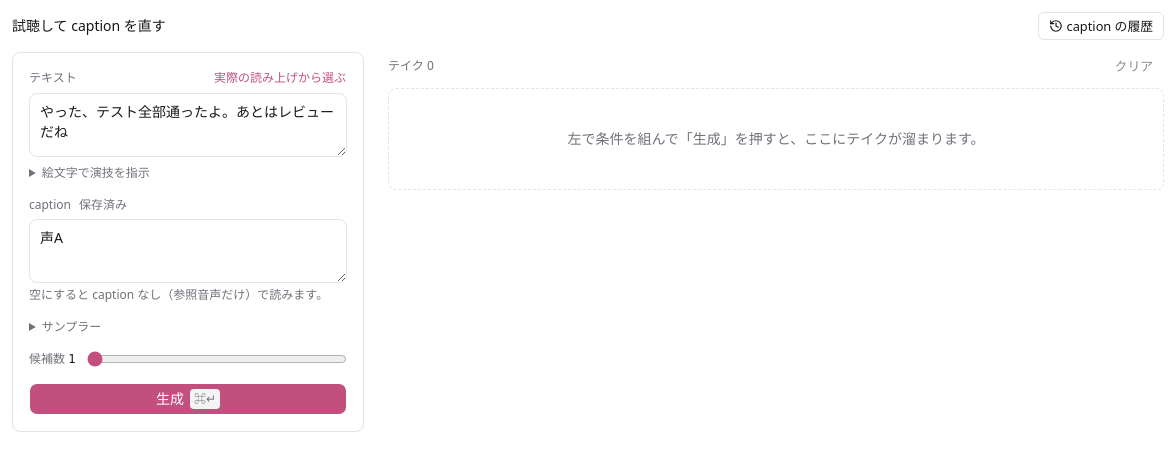
it: 入力欄の caption を、開いているプロファイルの声で試聴し、プロファイルは書かない
Step 1. Replace the text in the text box labelled "caption" with "声B" → {"x": 188, "y": 251}, box [29,219,347,283]
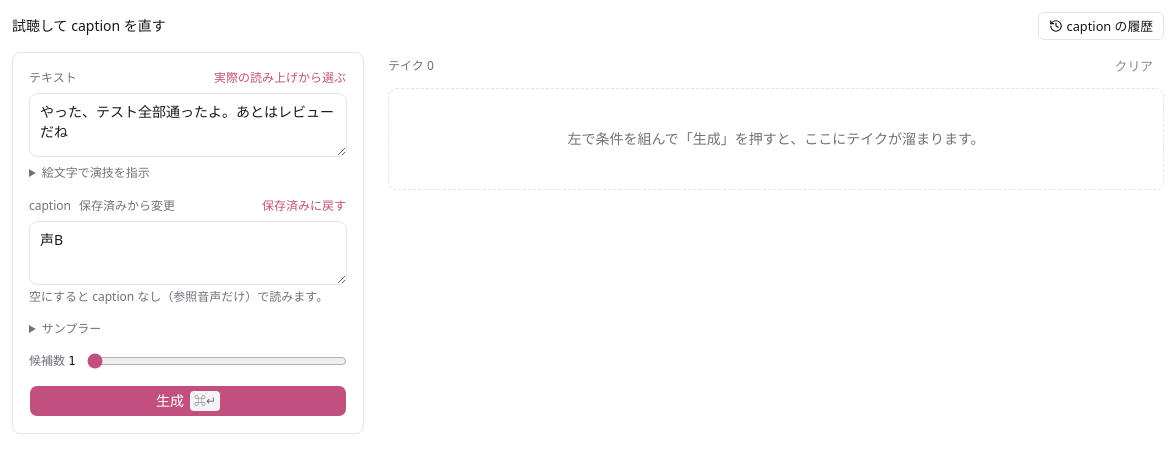
Step 2. Click the button "生成 ⌘↵" → {"x": 188, "y": 401}, box [29,385,347,417]
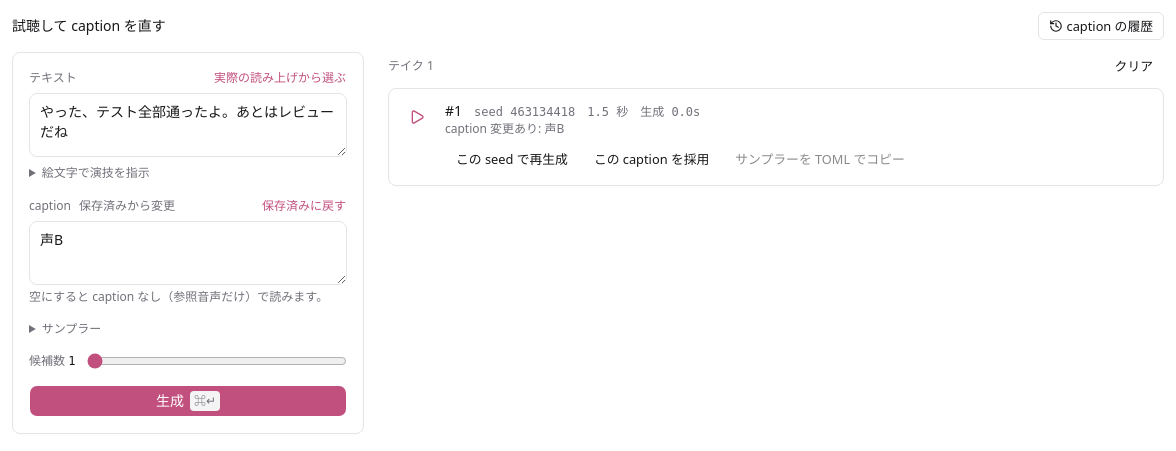
Check: the button named "テイク 1 を再生" is shown, box [401,101,433,133]
